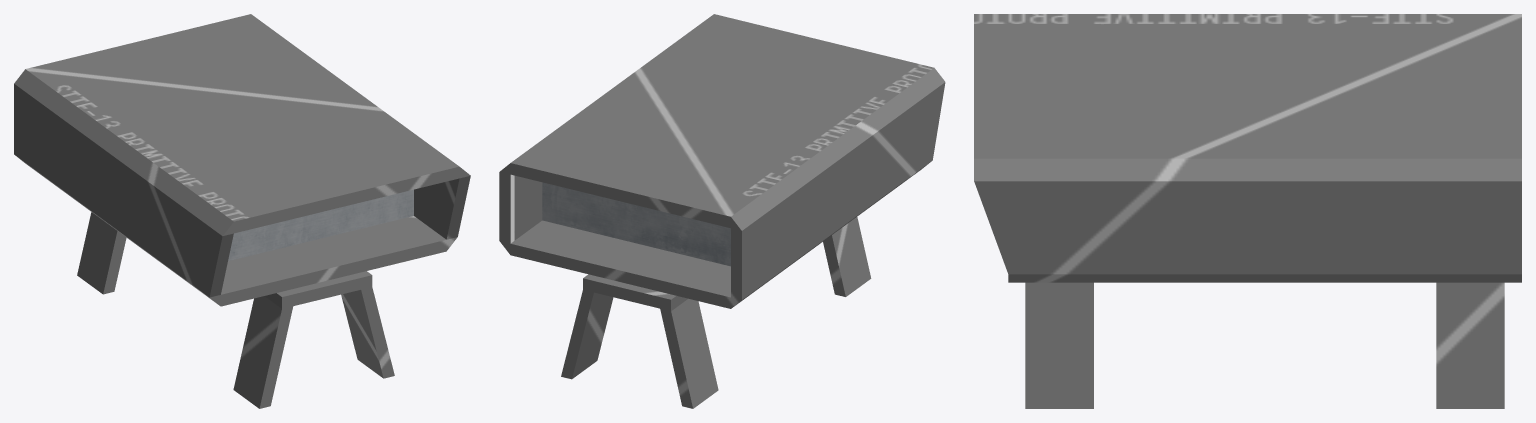
The model's file is Foundation-Standard-Sniper-Series-Mag-7-Scope.obj.
3 views of the same model, side by side, from view 1: azimuth 30°, elevation 25°; view 2: azimuth 150°, elevation 25°; view 3: azimuth 270°, elevation 25° (orthographic). The views are drawn at different scales.
Parts seen in each view (by area): view 1: Foundation-Standard-Sniper-Series-Mag-7-Scope; view 2: Foundation-Standard-Sniper-Series-Mag-7-Scope; view 3: Foundation-Standard-Sniper-Series-Mag-7-Scope.
Boxes of the visible parts, x1,y1,x2,y2 form: Foundation-Standard-Sniper-Series-Mag-7-Scope: (14, 14, 470, 408); Foundation-Standard-Sniper-Series-Mag-7-Scope: (499, 14, 945, 408); Foundation-Standard-Sniper-Series-Mag-7-Scope: (974, 14, 1521, 408).
Size of the model in its own units: 2.2 by 1.8 by 3.2.
